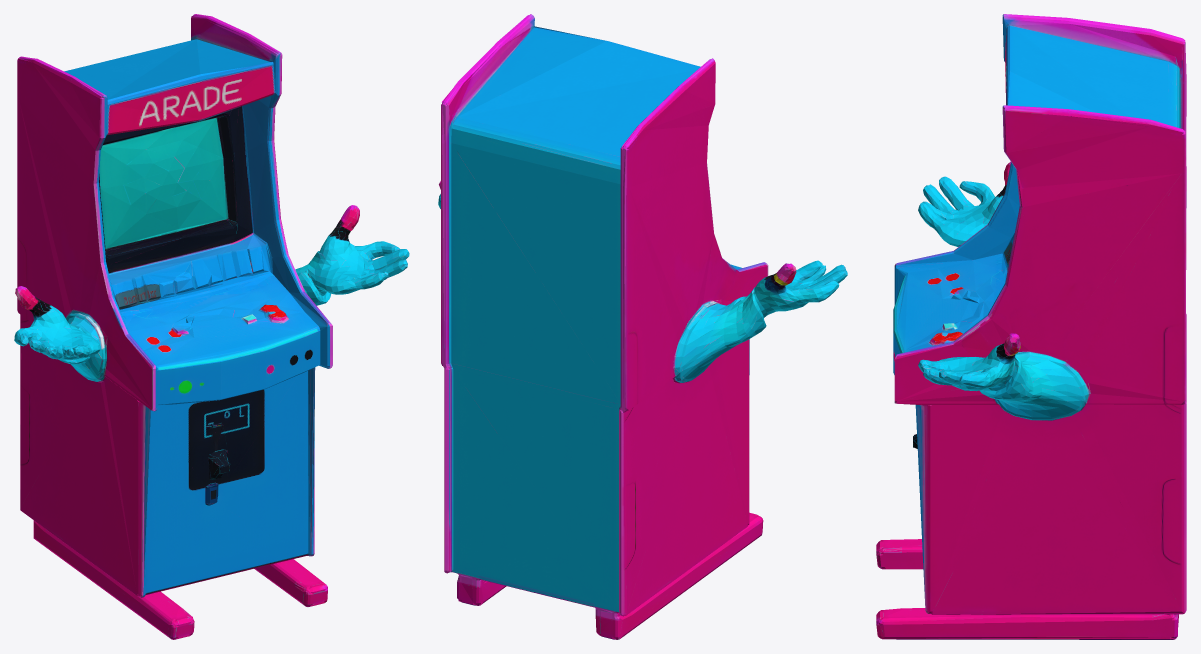
File: neon-arcade.glb
3 renders of one model, left to right at view 1: azimuth 30°, elevation 25°; view 2: azimuth 150°, elevation 25°; view 3: azimuth 270°, elevation 25°, orthographic. The views are drawn at different scales.
Size of the model in its own units: 1.41 by 1.8 by 0.9351.
1 material, 1 textured.
